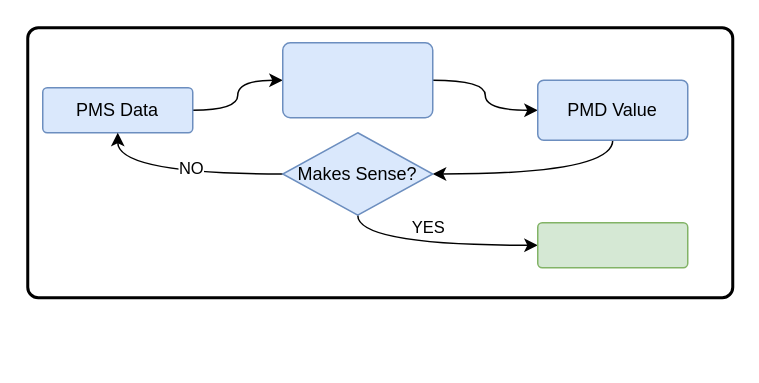
Some shapes in this 759 by 383 pixel diagram are drawn without their labels. Each missing label, with the centre of its shape:
New PMD Value: the point at 612,244
PMD Generator Tool: the point at 357,79
